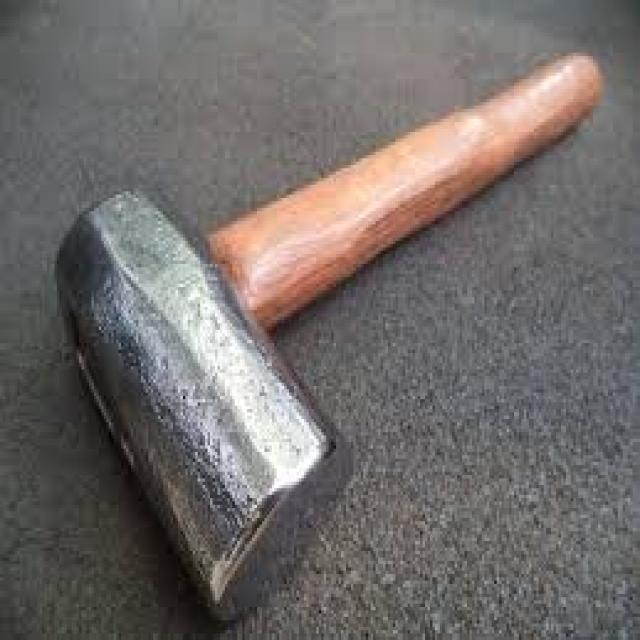hammer: (49, 44, 613, 628)
